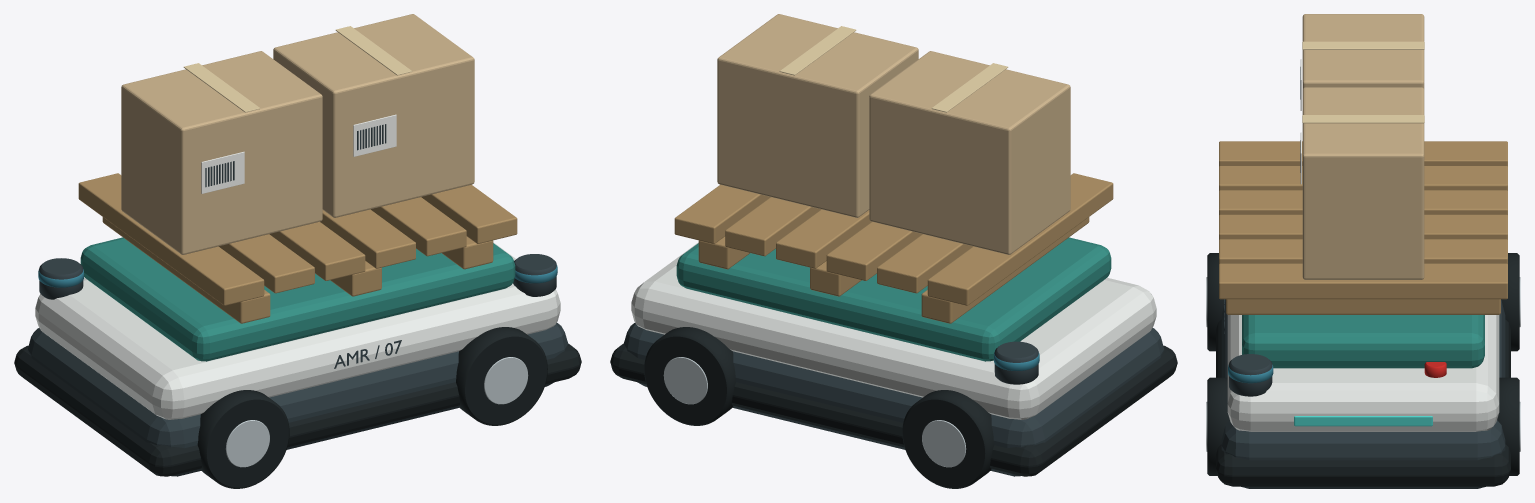
Rendered from agv.glb.
The picture shows the model from 3 angles, left to right: view 1: azimuth 30°, elevation 25°; view 2: azimuth 150°, elevation 25°; view 3: azimuth 270°, elevation 25°; orthographic projection.
Visible parts, largest first — view 1: Shipping carton, AMR service shell, Shipping carton.001, Pallet deck slat, Lift top module, AMR chassis, Shock absorbing bumper, Traction wheel.002, Traction wheel, Pallet runner, Wheel hub, Wheel hub.002 (+6 smaller); view 2: Shipping carton, AMR service shell, Shipping carton.001, Pallet deck slat, Lift top module, AMR chassis, Shock absorbing bumper, Traction wheel.003, Traction wheel.001, Pallet runner, Wheel hub.001, Wheel hub.003 (+3 smaller); view 3: Pallet deck slat, Shipping carton.001, AMR service shell, Lift top module, AMR chassis, Shock absorbing bumper, Shipping carton, Pallet runner, Traction wheel.002, Traction wheel.003, Status strip, Safety lidar (+5 smaller).
Boxes of the visible parts, bbox=[...] form: Shipping carton: bbox=[121, 51, 322, 254]; AMR service shell: bbox=[35, 242, 560, 419]; Shipping carton.001: bbox=[273, 14, 474, 217]; Pallet deck slat: bbox=[78, 173, 517, 305]; Lift top module: bbox=[80, 237, 515, 361]; AMR chassis: bbox=[27, 323, 568, 476]; Shock absorbing bumper: bbox=[14, 343, 581, 476]; Traction wheel.002: bbox=[456, 327, 547, 425]; Traction wheel: bbox=[197, 390, 289, 488]; Pallet runner: bbox=[102, 217, 493, 323]; Wheel hub: bbox=[225, 420, 269, 467]; Wheel hub.002: bbox=[484, 357, 528, 404]; Shipping carton: bbox=[869, 51, 1070, 254]; AMR service shell: bbox=[631, 242, 1156, 419]; Shipping carton.001: bbox=[717, 14, 918, 217]; Pallet deck slat: bbox=[674, 173, 1113, 305]; Lift top module: bbox=[676, 237, 1111, 361]; AMR chassis: bbox=[623, 323, 1164, 476]; Shock absorbing bumper: bbox=[610, 343, 1177, 476]; Traction wheel.003: bbox=[644, 327, 735, 425]; Traction wheel.001: bbox=[902, 390, 994, 488]; Pallet runner: bbox=[698, 217, 1089, 323]; Wheel hub.001: bbox=[922, 420, 966, 467]; Wheel hub.003: bbox=[663, 357, 707, 404]; Pallet deck slat: bbox=[1219, 141, 1507, 299]; Shipping carton.001: bbox=[1302, 87, 1424, 279]; AMR service shell: bbox=[1227, 315, 1499, 431]; Lift top module: bbox=[1242, 315, 1484, 368]; AMR chassis: bbox=[1221, 300, 1505, 488]; Shock absorbing bumper: bbox=[1216, 319, 1510, 486]; Shipping carton: bbox=[1302, 14, 1424, 89]; Pallet runner: bbox=[1226, 299, 1500, 314]; Traction wheel.002: bbox=[1207, 377, 1229, 475]; Traction wheel.003: bbox=[1497, 377, 1519, 475]; Status strip: bbox=[1294, 416, 1432, 426]; Safety lidar: bbox=[1229, 354, 1272, 396].
Size of the model in its own units: 1.7 by 1.25 by 1.09.
